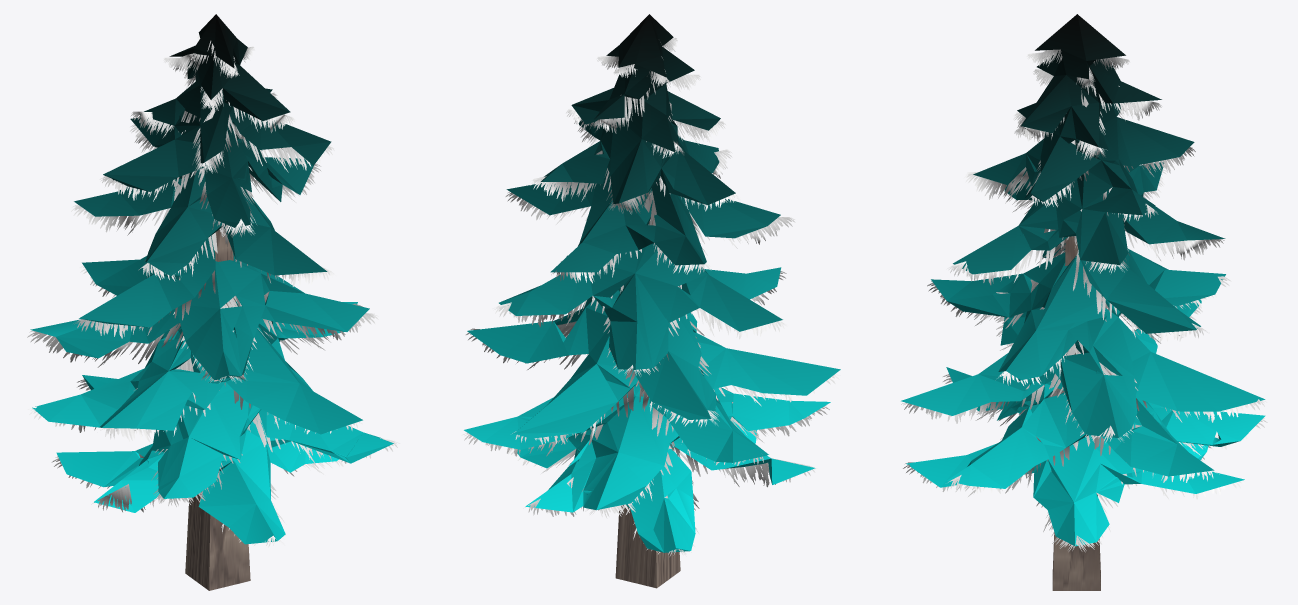
Rendered from PineTree02c.fbx.
3 renders of one model, left to right at view 1: azimuth 30°, elevation 25°; view 2: azimuth 150°, elevation 25°; view 3: azimuth 270°, elevation 25°, orthographic.
Parts seen in each view (by area): view 1: PineTree02c_LOD0; view 2: PineTree02c_LOD0; view 3: PineTree02c_LOD0.
Part boxes in pixels (box(x1,y1,x2,y2)): PineTree02c_LOD0: box(27, 14, 399, 590); PineTree02c_LOD0: box(463, 14, 840, 588); PineTree02c_LOD0: box(901, 14, 1267, 590).
Size of what is drawn, in the model's own units: 552 by 843 by 543.
